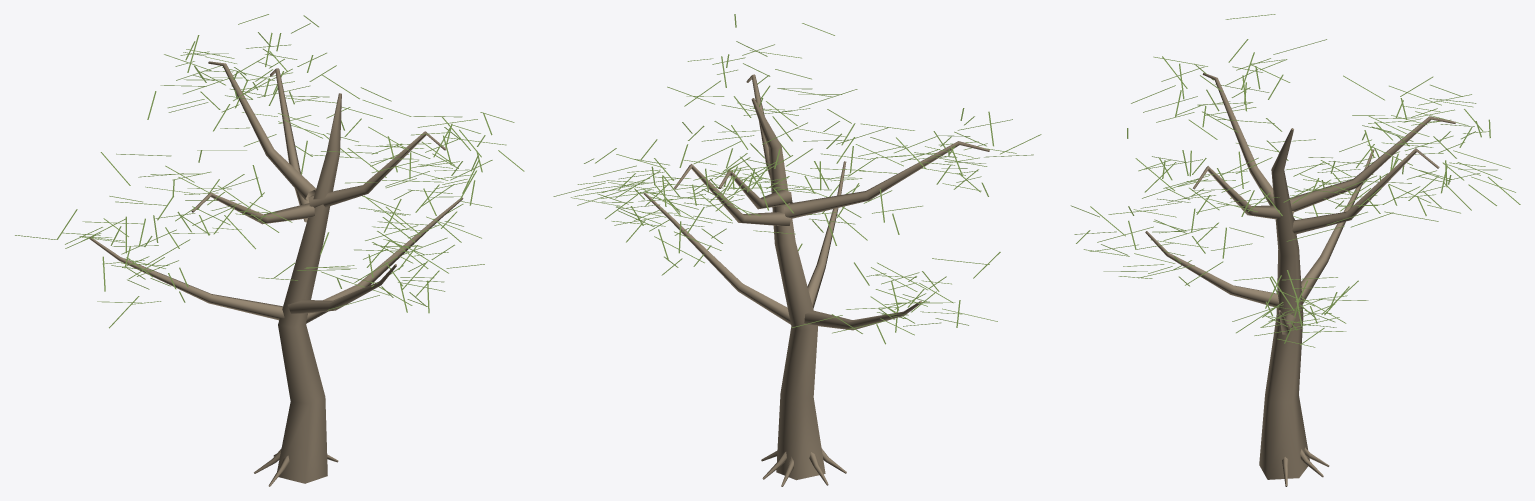
Rendered from canopy_broad_lod2.glb.
3 renders of one model, left to right at view 1: azimuth 30°, elevation 25°; view 2: azimuth 150°, elevation 25°; view 3: azimuth 270°, elevation 25°, orthographic.
Parts seen in each view (by area): view 1: Bark, Leaves; view 2: Bark, Leaves; view 3: Bark, Leaves.
Part boxes in pixels (box(x1,y1,x2,y2)): Bark: box(89, 61, 463, 486); Leaves: box(15, 14, 524, 328); Bark: box(643, 74, 989, 486); Leaves: box(553, 14, 1041, 344); Bark: box(1145, 73, 1455, 486); Leaves: box(1070, 14, 1520, 347).
Bounding box in the file's own units: 11.68 × 9.72 × 10.53.
